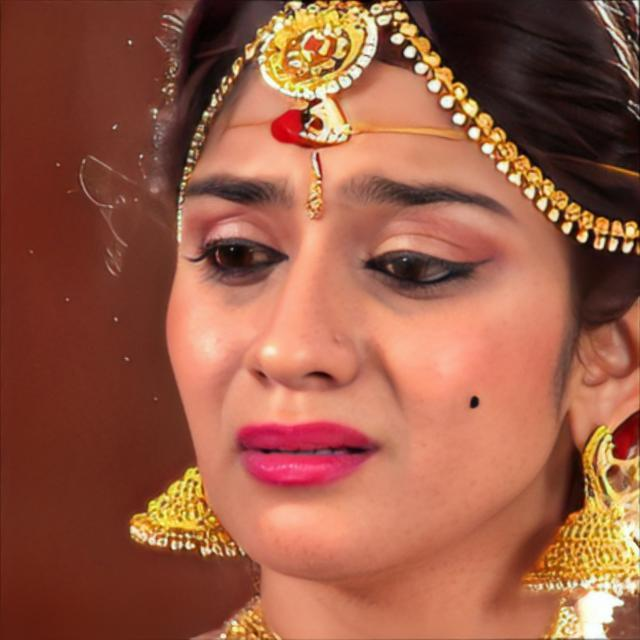sad: (166, 37, 564, 578)
